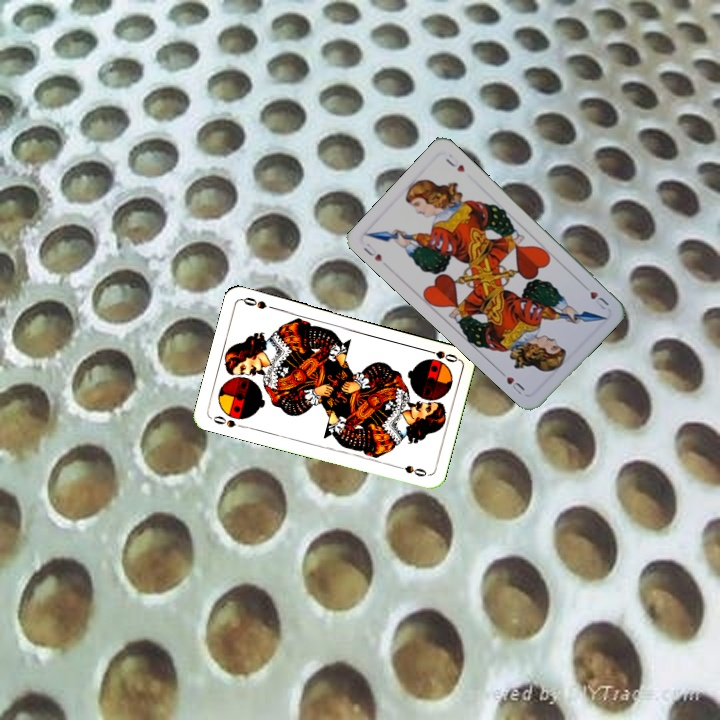HU: (578, 280, 611, 313), (359, 239, 385, 264)
SO: (420, 345, 460, 365), (209, 412, 238, 430)
